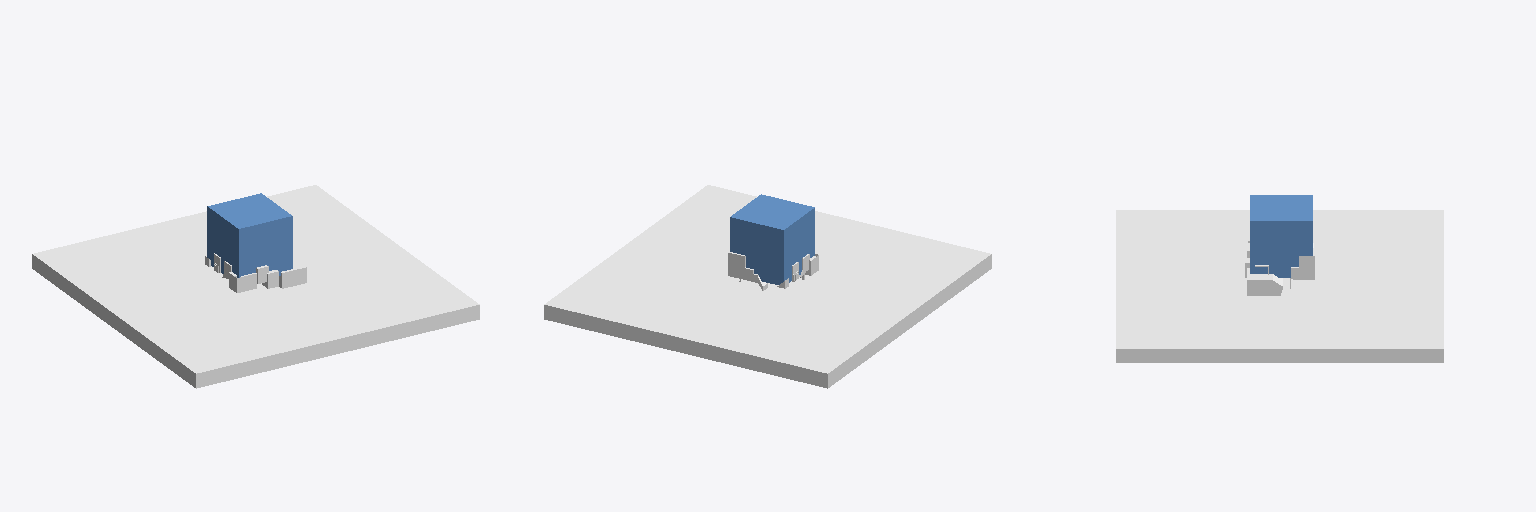
The model's file is map.obj.
The picture shows the model from 3 angles: view 1: azimuth 30°, elevation 25°; view 2: azimuth 150°, elevation 25°; view 3: azimuth 270°, elevation 25°; orthographic projection.
Visible parts, largest first — view 1: map; view 2: map; view 3: map.
Boxes of the visible parts, box(x1,y1,x2,y2) form: map: box(32, 185, 479, 388); map: box(544, 185, 991, 388); map: box(1116, 195, 1443, 362).
Size of the model in its own units: 263 by 80.81 by 263.